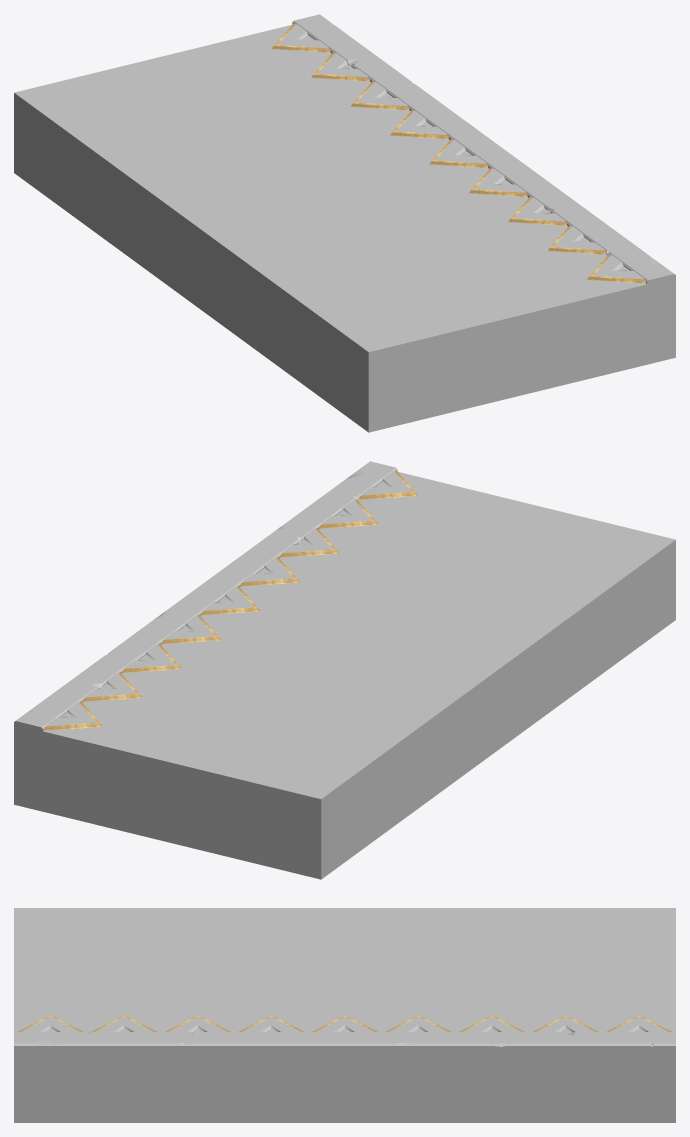
3 renders of one model, top to bottom at view 1: azimuth 30°, elevation 25°; view 2: azimuth 150°, elevation 25°; view 3: azimuth 270°, elevation 25°, orthographic. The views are drawn at different scales.
Visible parts, largest first — view 1: SM_Vault_4x2_Floor_01_LOD0; view 2: SM_Vault_4x2_Floor_01_LOD0; view 3: SM_Vault_4x2_Floor_01_LOD0.
Boxes of the visible parts, box(x1,y1,x2,y2) form: SM_Vault_4x2_Floor_01_LOD0: box(14, 14, 675, 432); SM_Vault_4x2_Floor_01_LOD0: box(14, 461, 675, 879); SM_Vault_4x2_Floor_01_LOD0: box(14, 908, 675, 1122).
Bounding box in the file's own units: 2 × 0.5232 × 4.
